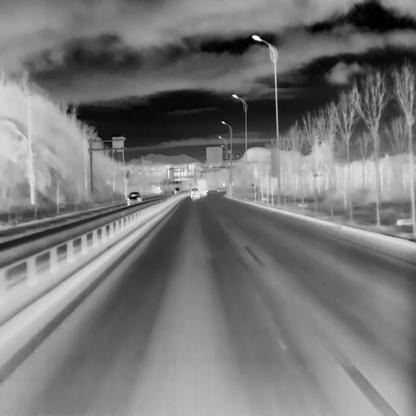car: (126, 191, 141, 205), (197, 180, 206, 195), (190, 187, 200, 197), (174, 186, 180, 193)
